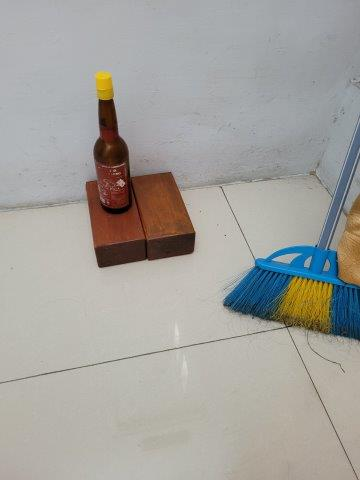botolkaca: (92, 71, 134, 214)
